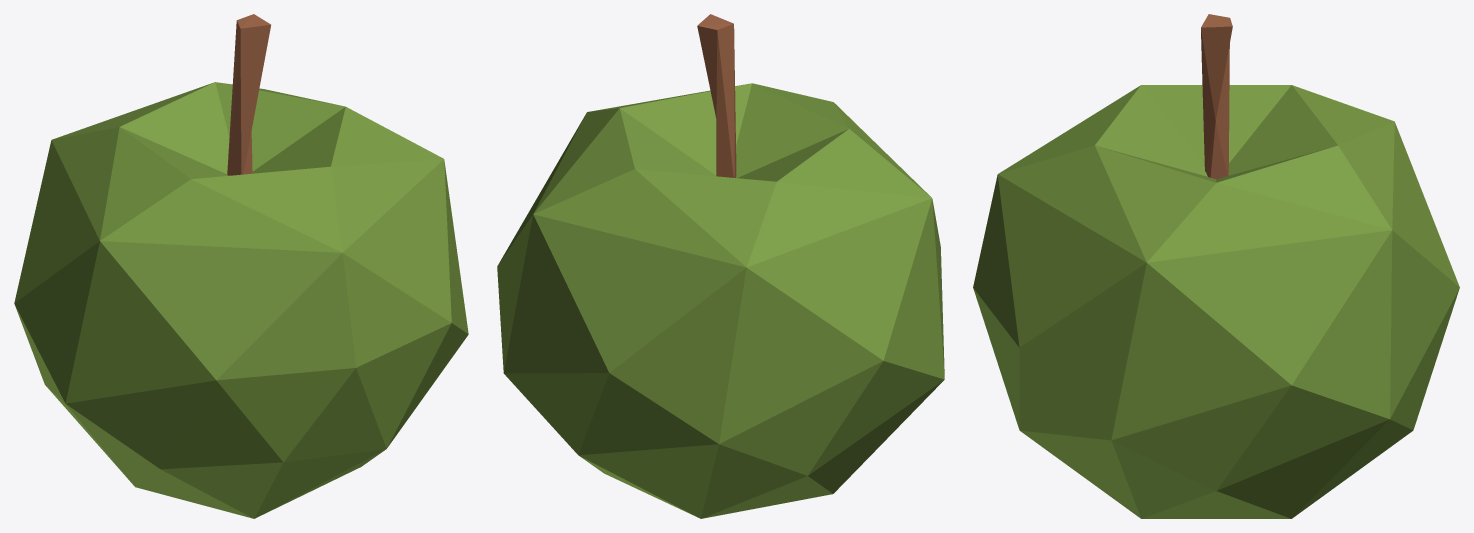
The model's file is Food_01.fbx.
3 renders of one model, left to right at view 1: azimuth 30°, elevation 25°; view 2: azimuth 150°, elevation 25°; view 3: azimuth 270°, elevation 25°, orthographic. The views are drawn at different scales.
Visible parts, largest first — view 1: Food_01; view 2: Food_01; view 3: Food_01.
Part boxes in pixels (left/top/right/bottom): Food_01: left=14, top=14, right=468, bottom=518; Food_01: left=497, top=14, right=944, bottom=518; Food_01: left=973, top=14, right=1459, bottom=518.
Size of the model in its own units: 11.67 by 13.5 by 12.12.
